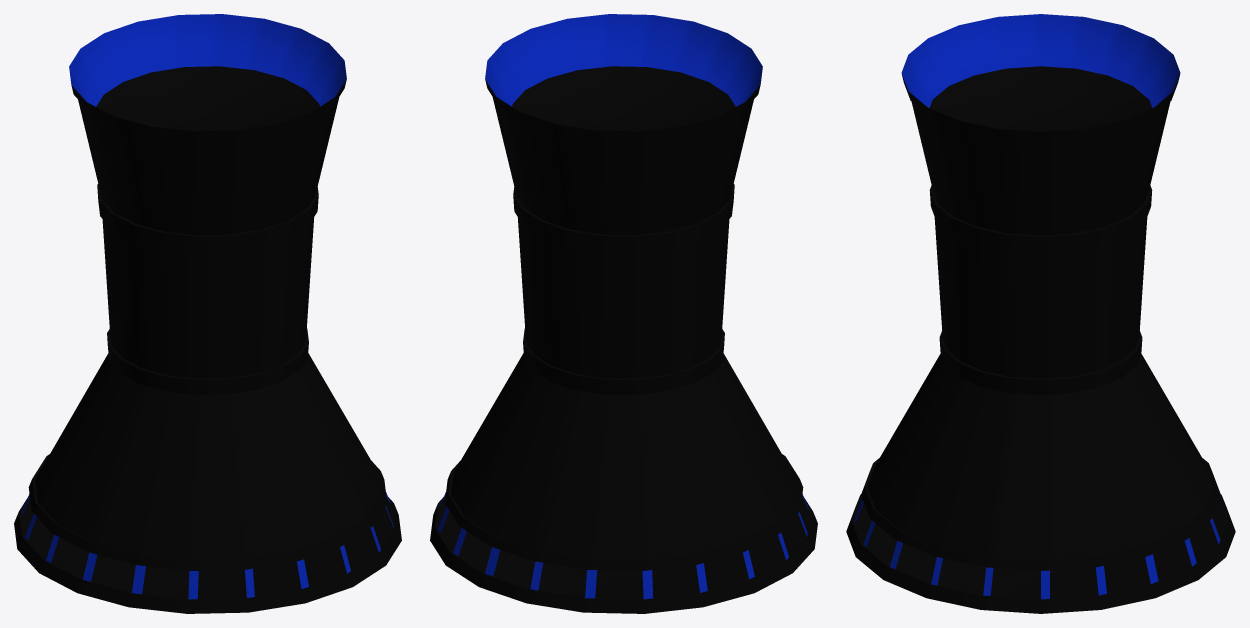
Rendered from blue.fbx.
3 renders of one model, left to right at view 1: azimuth 30°, elevation 25°; view 2: azimuth 150°, elevation 25°; view 3: azimuth 270°, elevation 25°, orthographic.
Visible parts, largest first — view 1: pCylinder1; view 2: pCylinder1; view 3: pCylinder1.
Boxes of the visible parts, x1,y1,x2,y2 form: pCylinder1: [14, 14, 401, 613]; pCylinder1: [430, 14, 817, 613]; pCylinder1: [846, 14, 1235, 613].
Bounding box in the file's own units: 25.63 × 33.36 × 25.63.
